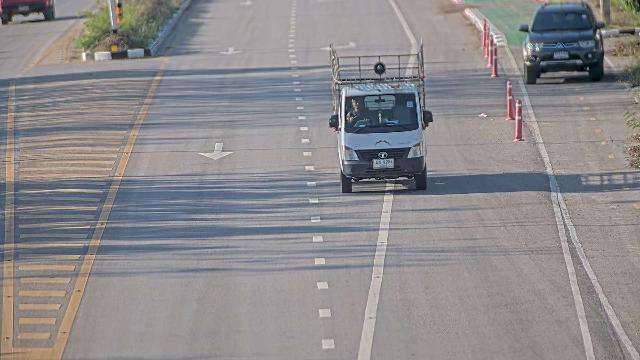pickup-truck: (327, 37, 433, 193), (518, 1, 606, 84)
